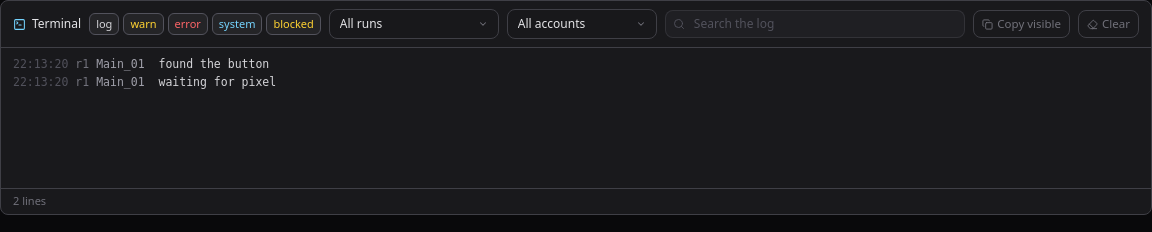
Test case: PythonTerminal › searches the message text
Expected: the text "found the button" is shown, [158, 57, 269, 71]
In the field labelled "Search the log": (815, 24) [665, 10, 965, 38], type "PIXEL"
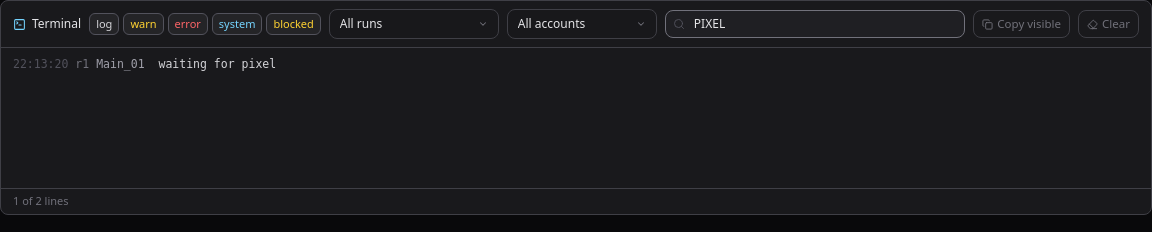
Expected: the text "waiting for pixel" is shown, [158, 57, 276, 71]
Now the text "found the button" is gone
